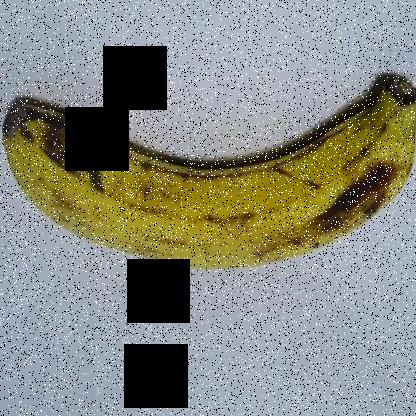overripe: (1, 57, 415, 284)
